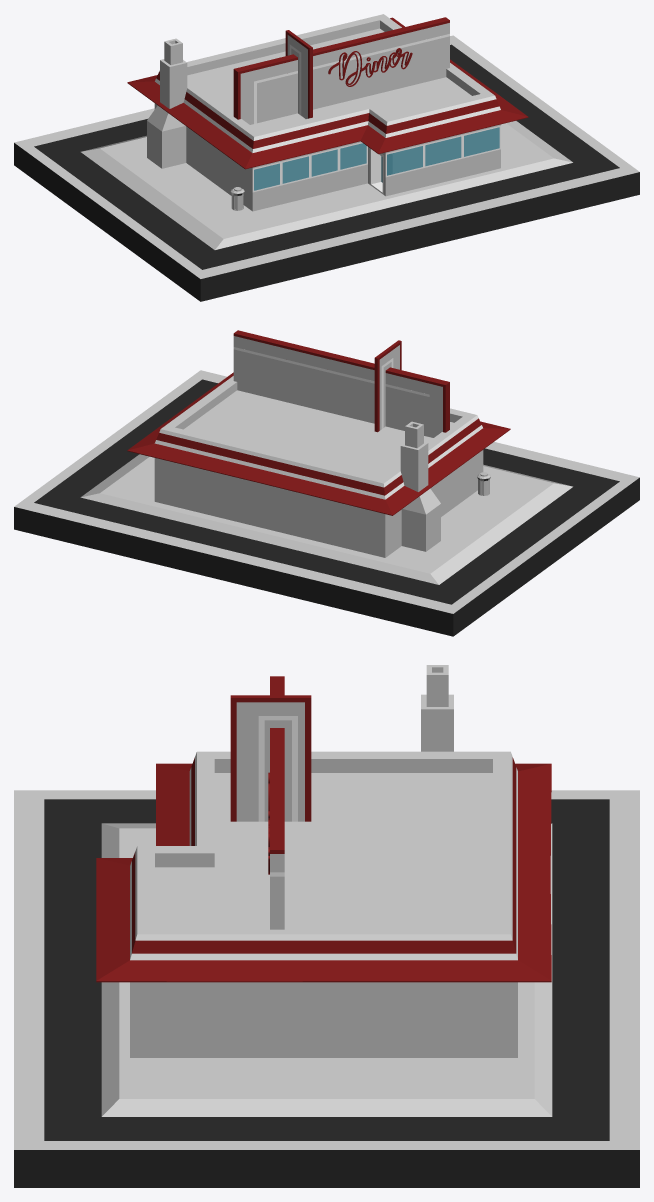
The model's file is 4Xlqz9IfdrV.glb.
3 renders of one model, top to bottom at view 1: azimuth 30°, elevation 25°; view 2: azimuth 150°, elevation 25°; view 3: azimuth 270°, elevation 25°, orthographic. The views are drawn at different scales.
Visible parts, largest first — view 1: Box001, Box002; view 2: Box001, Box002; view 3: Box001, Box002.
Part boxes in pixels (x1,y1,x2,y2): Box001: (14, 14, 639, 301); Box002: (127, 17, 528, 210); Box001: (14, 336, 639, 636); Box002: (127, 330, 510, 515); Box001: (14, 665, 639, 1187); Box002: (96, 676, 551, 982).
Bounding box in the file's own units: 2.8 × 1 × 2.06.
